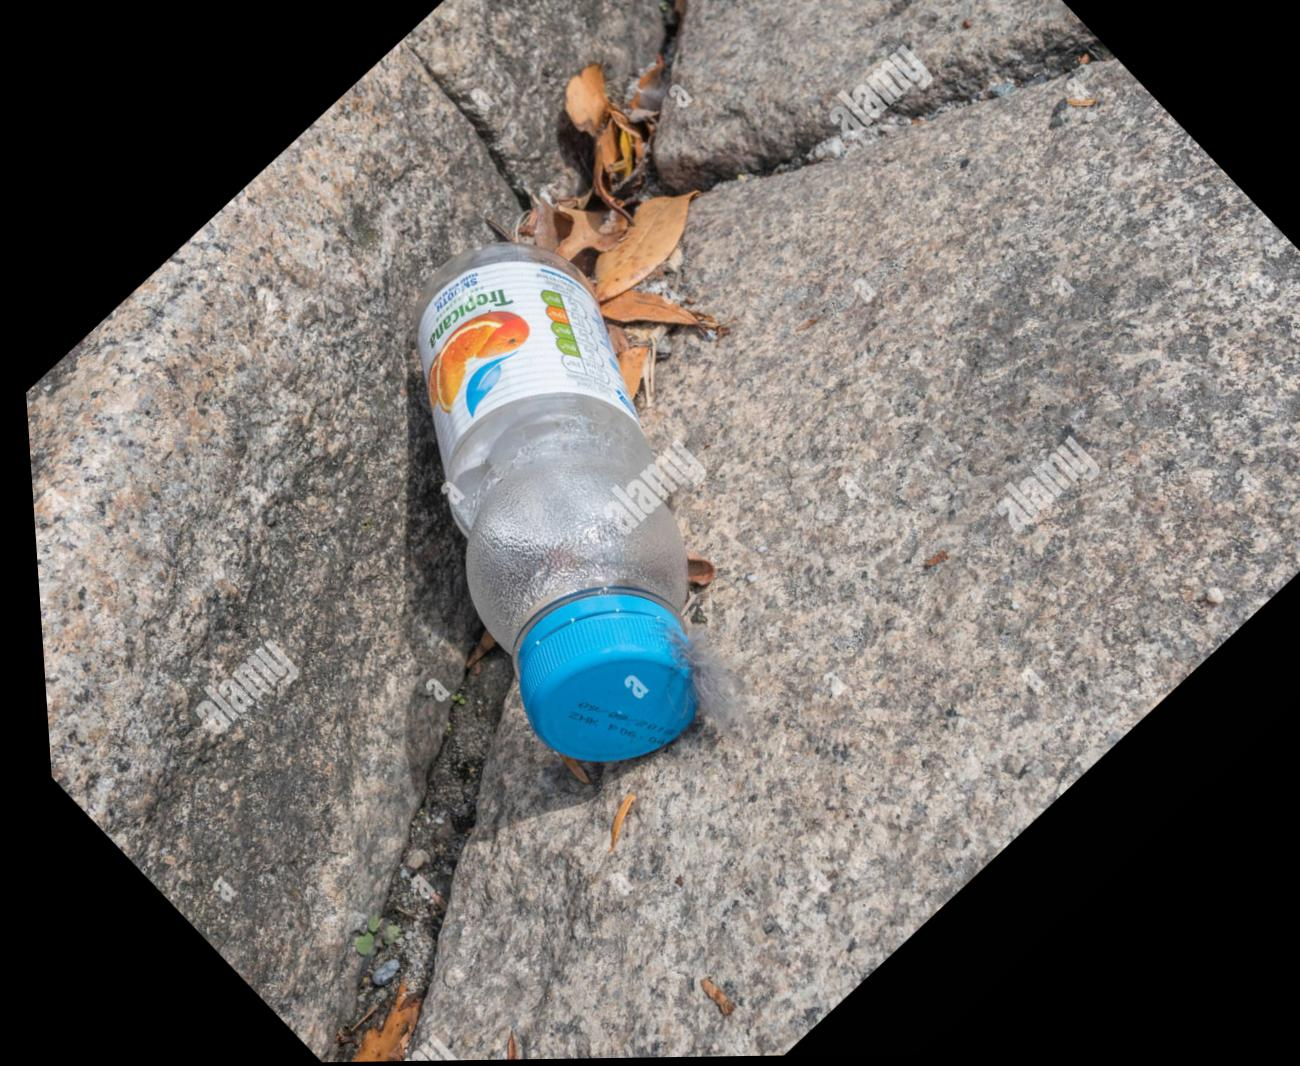plastic: (419, 195, 723, 763)
